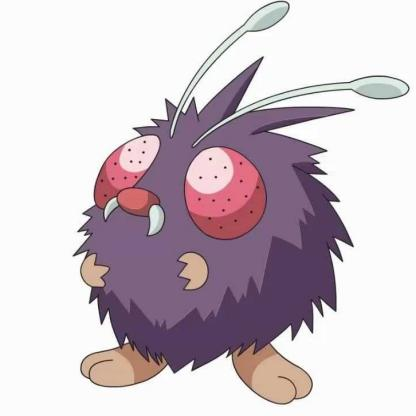Venonat: (50, 1, 407, 412)
